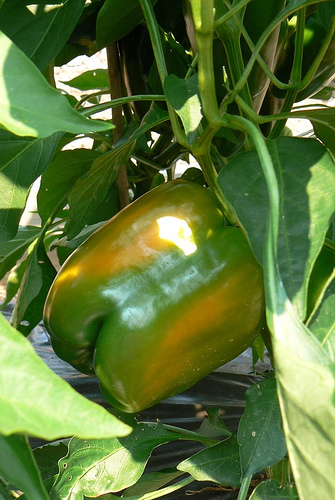capsicum: (41, 173, 271, 416)
